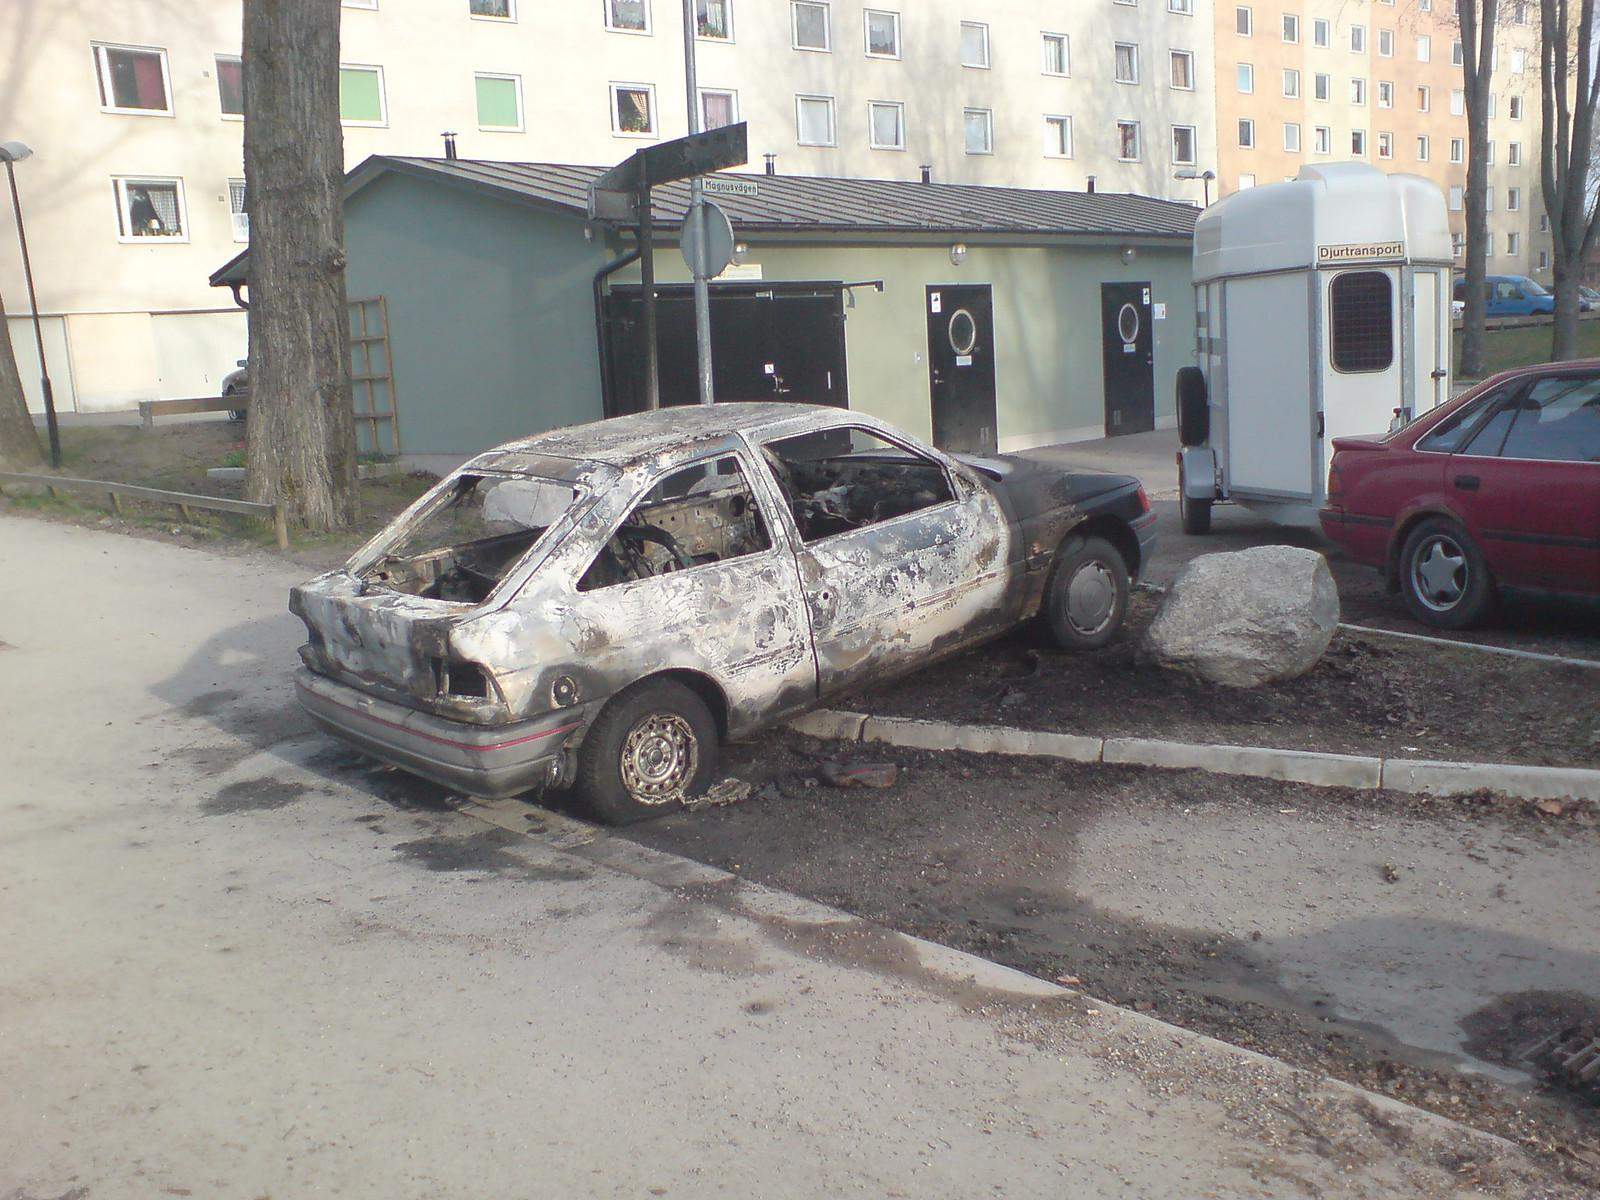Rear-windscreen-Damage: (341, 483, 583, 613)
doorouter-dent: (619, 590, 824, 718), (815, 521, 990, 663)
rear-bumper-dent: (268, 590, 534, 795)
